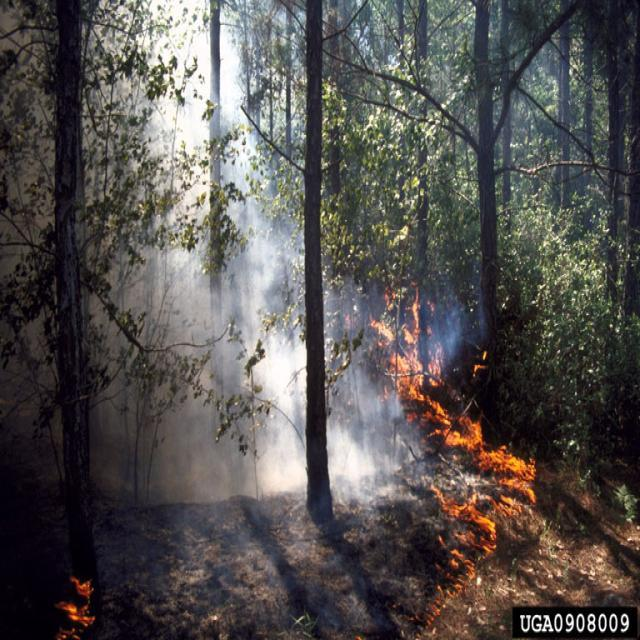Fire: (368, 280, 537, 628), (54, 575, 96, 640)
